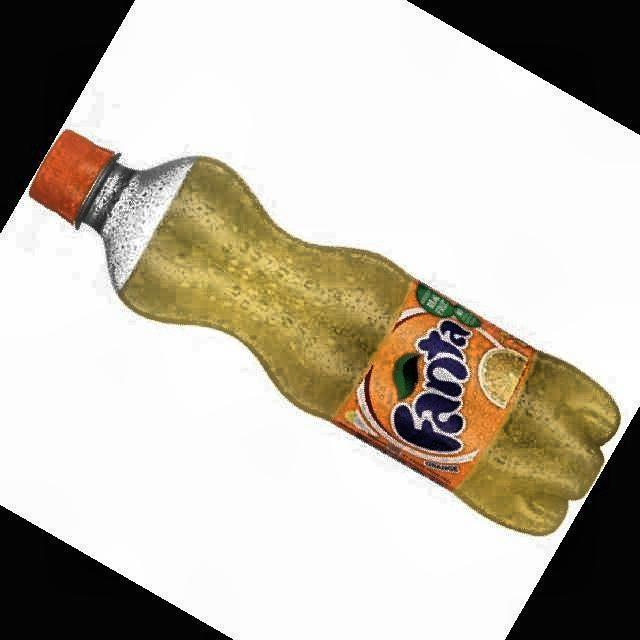plastic: (30, 130, 619, 534)
